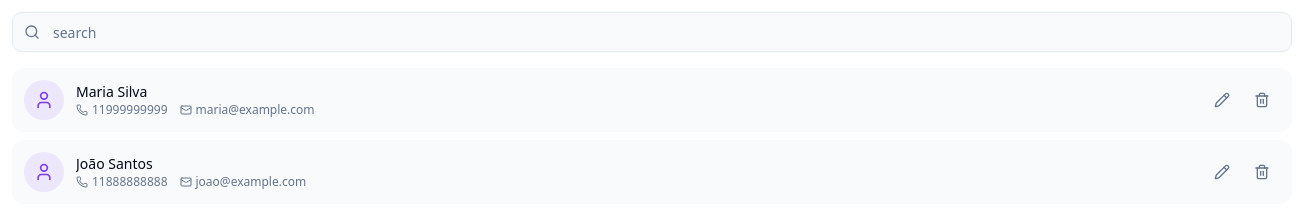
Test case: ClientList › with clients › should filter clients by phone
The width and height of the screenshot is (1304, 209).
Type "888888" into the field with placeholder "search".
click(652, 32); type("888888")  # box top-left (12, 12), bottom-right (1292, 52)
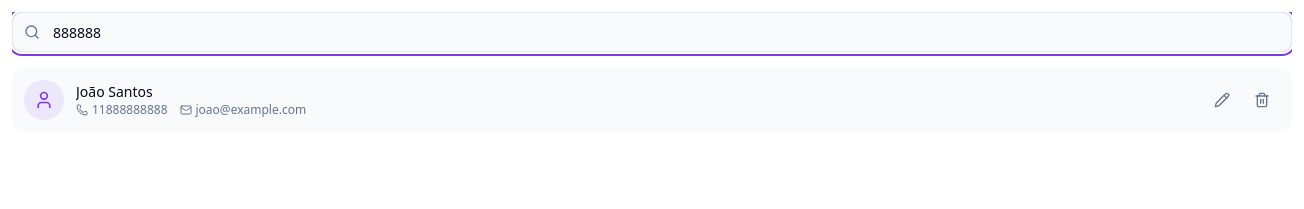
Expected: the text "João Santos" is shown, top-left (76, 82), bottom-right (153, 101)
Now the button "Maria Silva" is gone
